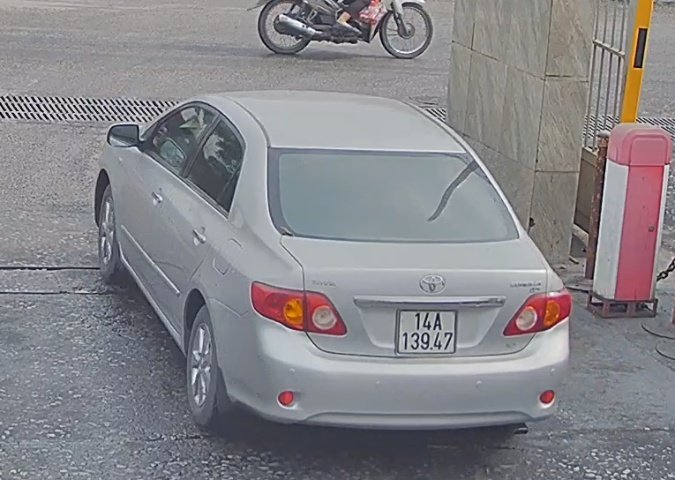vehicle plate: (391, 302, 460, 356)
